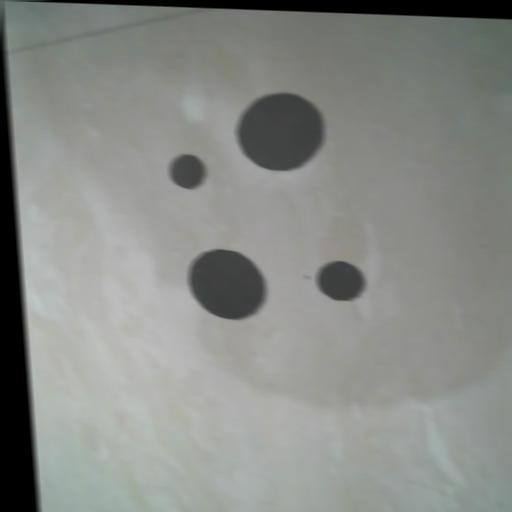pothole: (230, 90, 328, 173), (183, 247, 268, 322), (313, 259, 366, 302), (165, 153, 206, 190)
